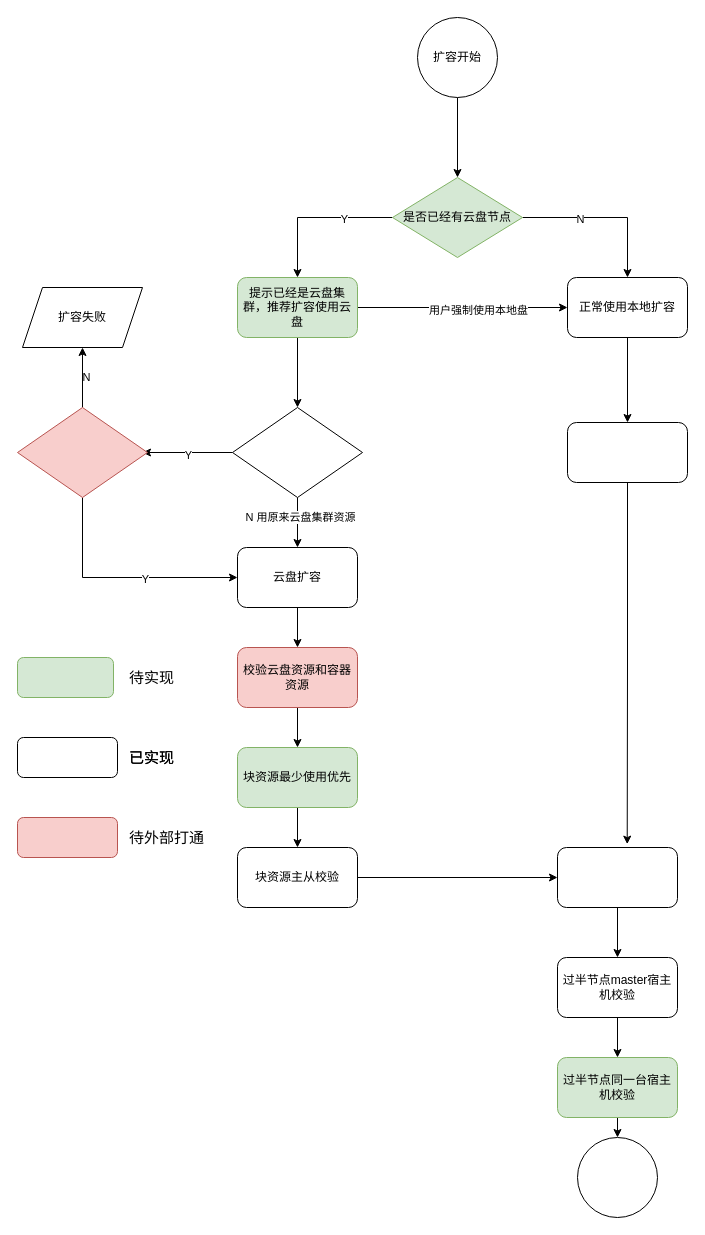
The diagram is 705 pixels wide and 1235 high, and some of its shapes have lost their labels. Each missing label, with the box of its shape:
主从宿主机校验: (556, 846, 678, 908)
扩容结束: (576, 1136, 658, 1218)
是否跨机房: (232, 406, 362, 498)
校验资源: (566, 422, 688, 482)
资源是否有 云盘集群资源: (16, 406, 148, 498)
